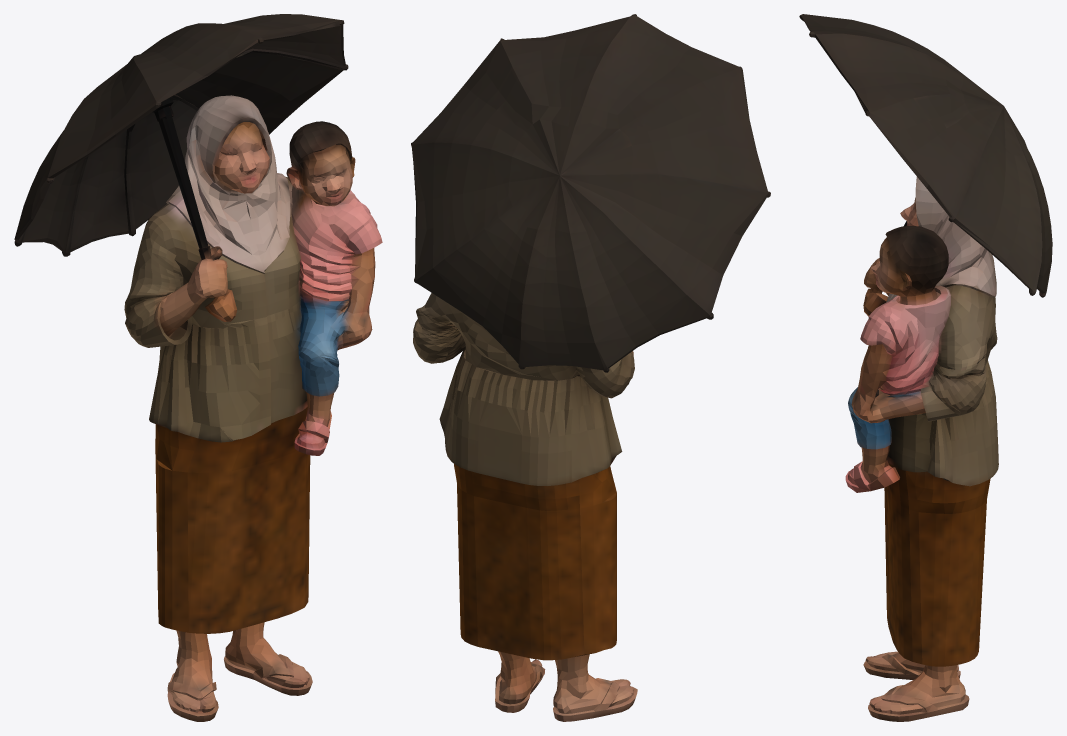
The picture shows the model from 3 angles, left to right: view 1: azimuth 30°, elevation 25°; view 2: azimuth 150°, elevation 25°; view 3: azimuth 270°, elevation 25°; orthographic projection. The views are drawn at different scales.
Visible parts, largest first — view 1: texture_pbr_v128; view 2: texture_pbr_v128; view 3: texture_pbr_v128.
Boxes of the visible parts, left/top/right/bottom form: texture_pbr_v128: left=14, top=14, right=382, bottom=721; texture_pbr_v128: left=411, top=14, right=770, bottom=721; texture_pbr_v128: left=799, top=14, right=1052, bottom=721.
Bounding box in the file's own units: 0.5857 × 1.14 × 0.4038.
Materials: 1 (1 with a texture image).
